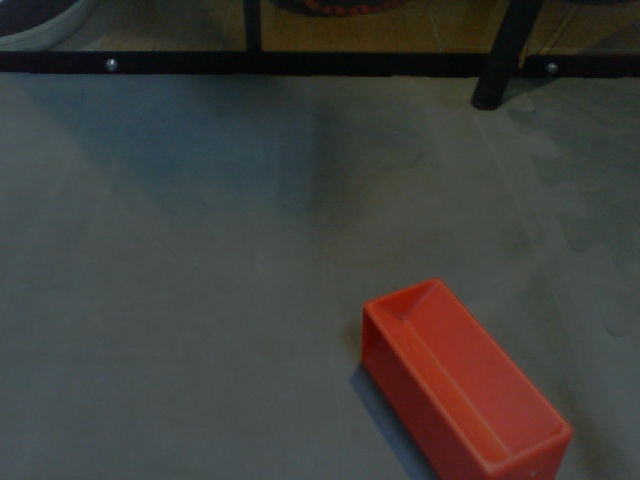RedSample: (360, 276, 577, 480)
